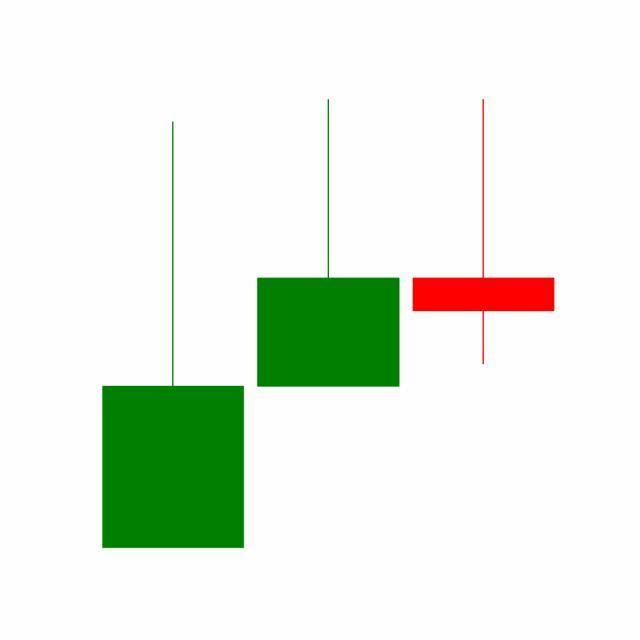Gravestone Doji: (406, 97, 562, 368)
